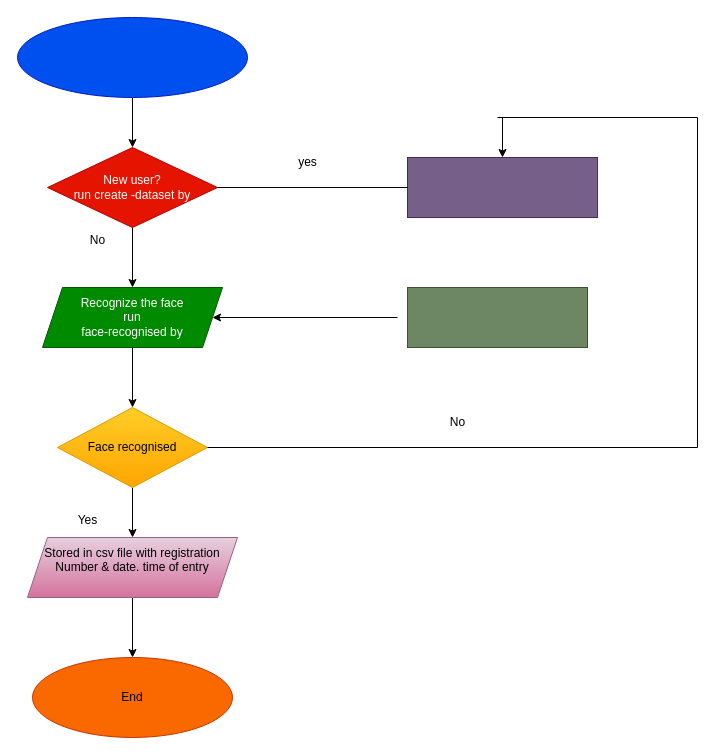
The diagram is 716 pixels wide and 755 high, and some of its shapes have lost their labels. Each missing label, with the box of its shape:
Give your photograph: (406, 156, 598, 218)
Start: (16, 16, 248, 98)
Store the face data in folder on your name: (406, 286, 588, 348)
